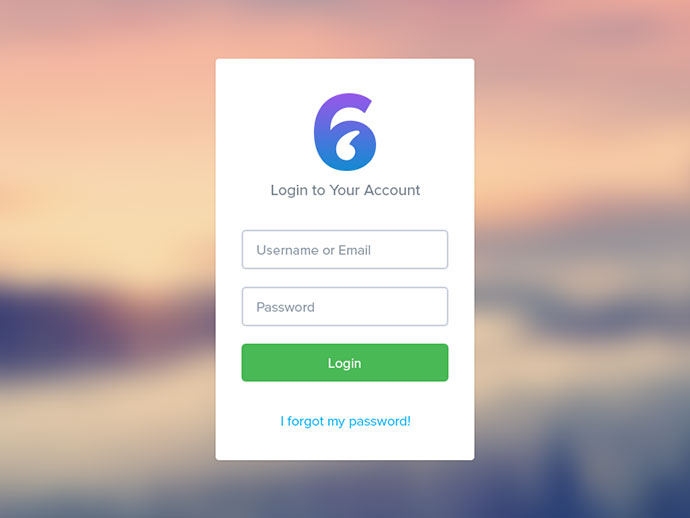_form_: (113, 51, 530, 467)
button: (241, 343, 449, 382)
field: (242, 229, 449, 270), (242, 287, 449, 326)
